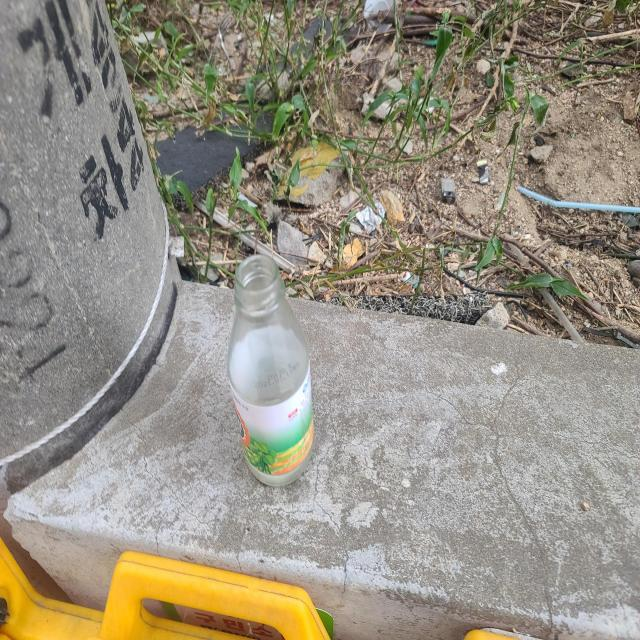glass: (228, 255, 314, 486)
